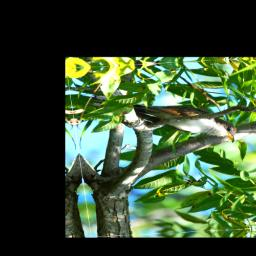Cuckoo: (133, 99, 239, 148)
